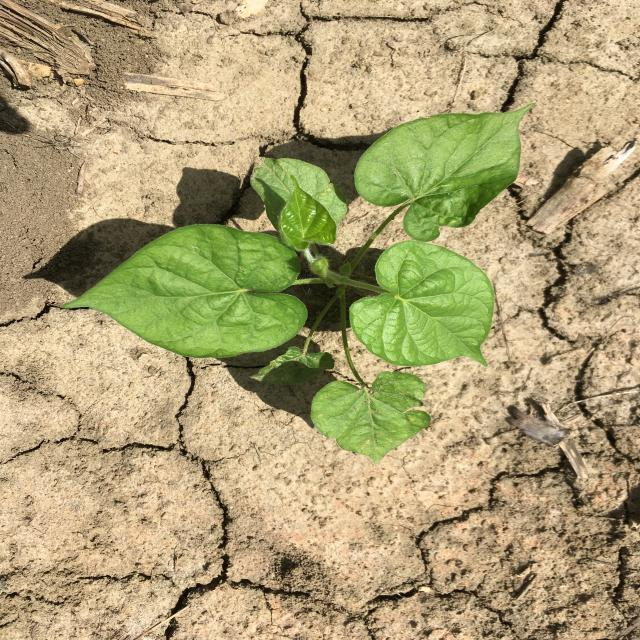MorningGlory: (60, 76, 535, 466)
